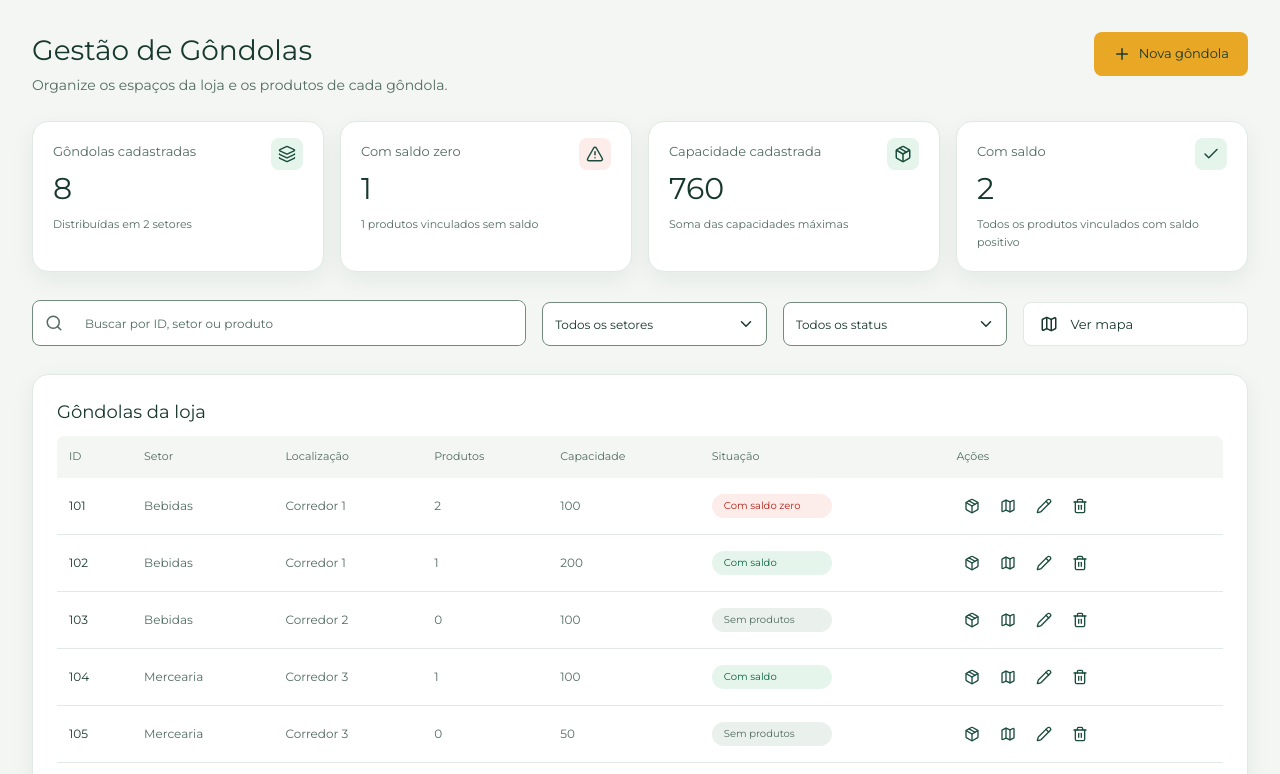
Test: combines accent-insensitive product search, sector and actual quantity status
Step 1. Type " AGUA " into the search field → point(299, 324), box [73,302,525,346]
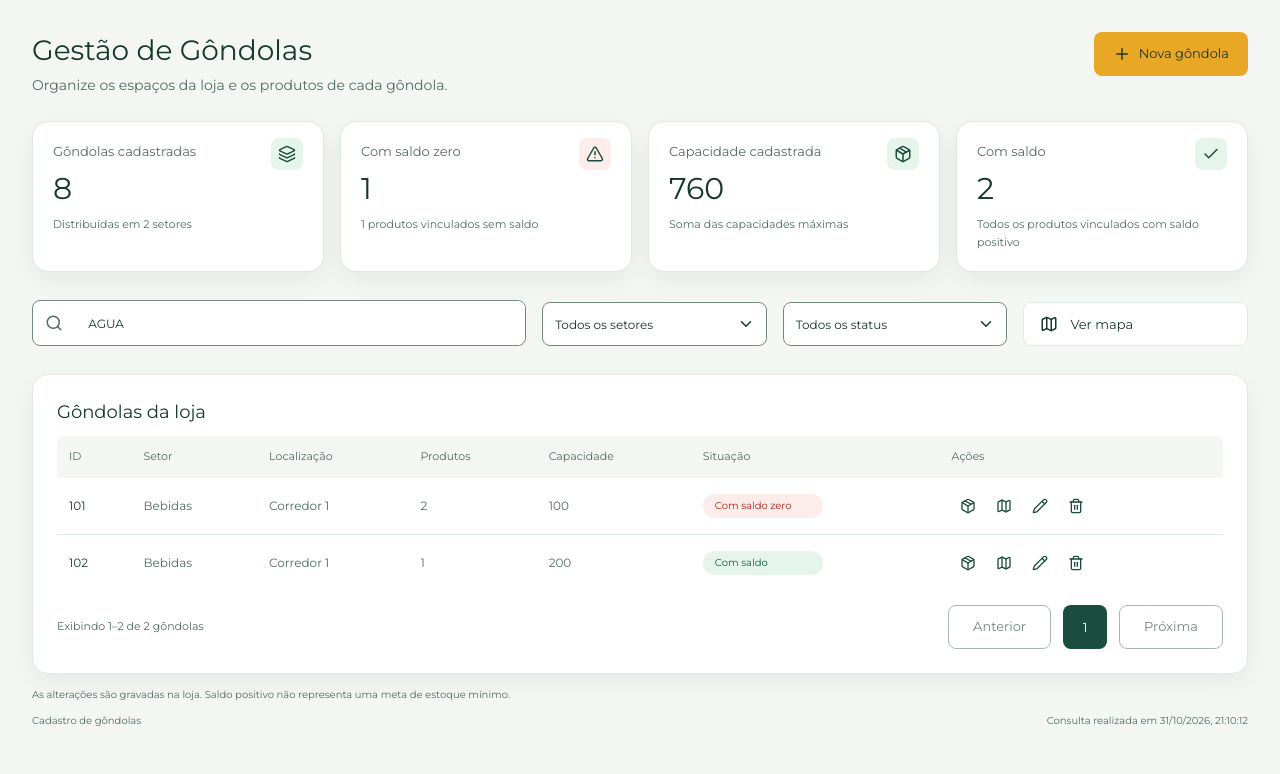
Expected: the message reads "Exibindo 1–2 de 2 gôndolas", [57,619,204,633]
Step 2. Select "Mercearia" in the 1st dropdown named "Setor" → point(654, 324), box [542,302,767,346]
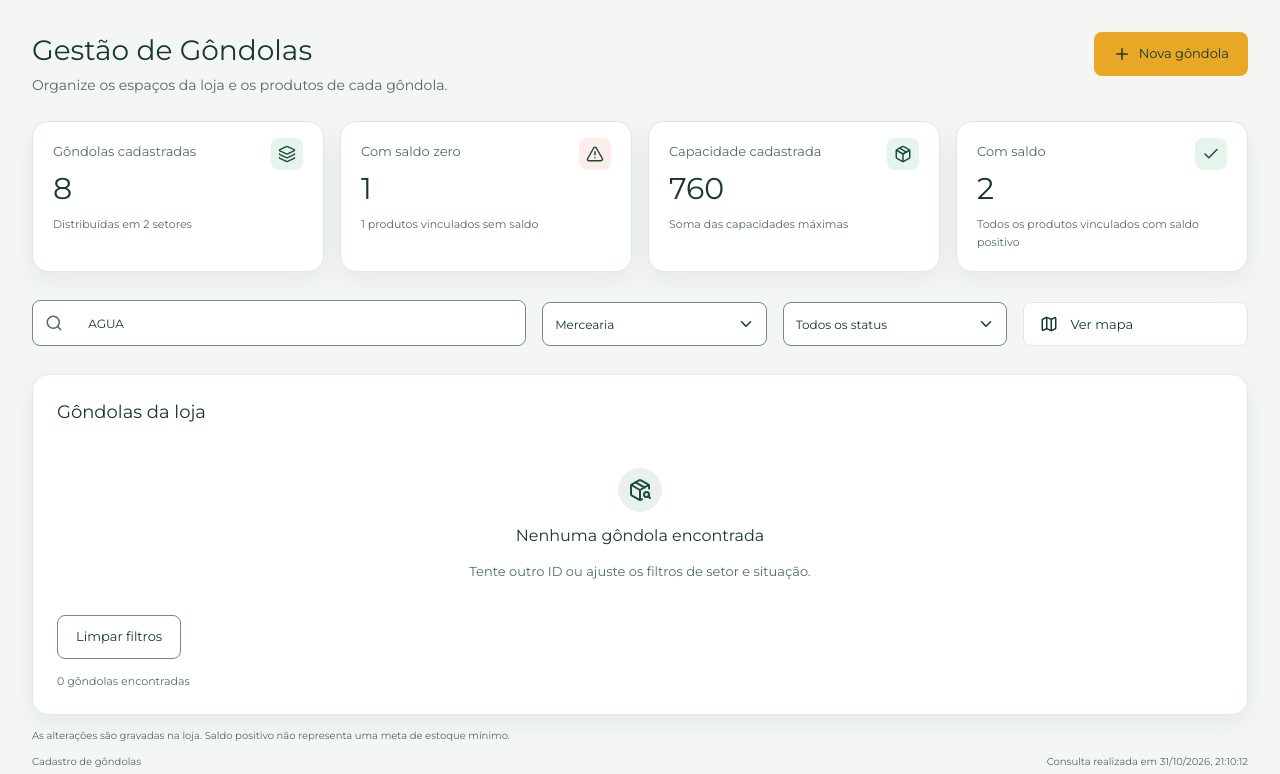
Expected: the text "Nenhuma gôndola encontrada" is shown, [516,524,764,548]
Step 3. Click the button "Limpar filtros" → point(119, 637), box [57,615,181,659]
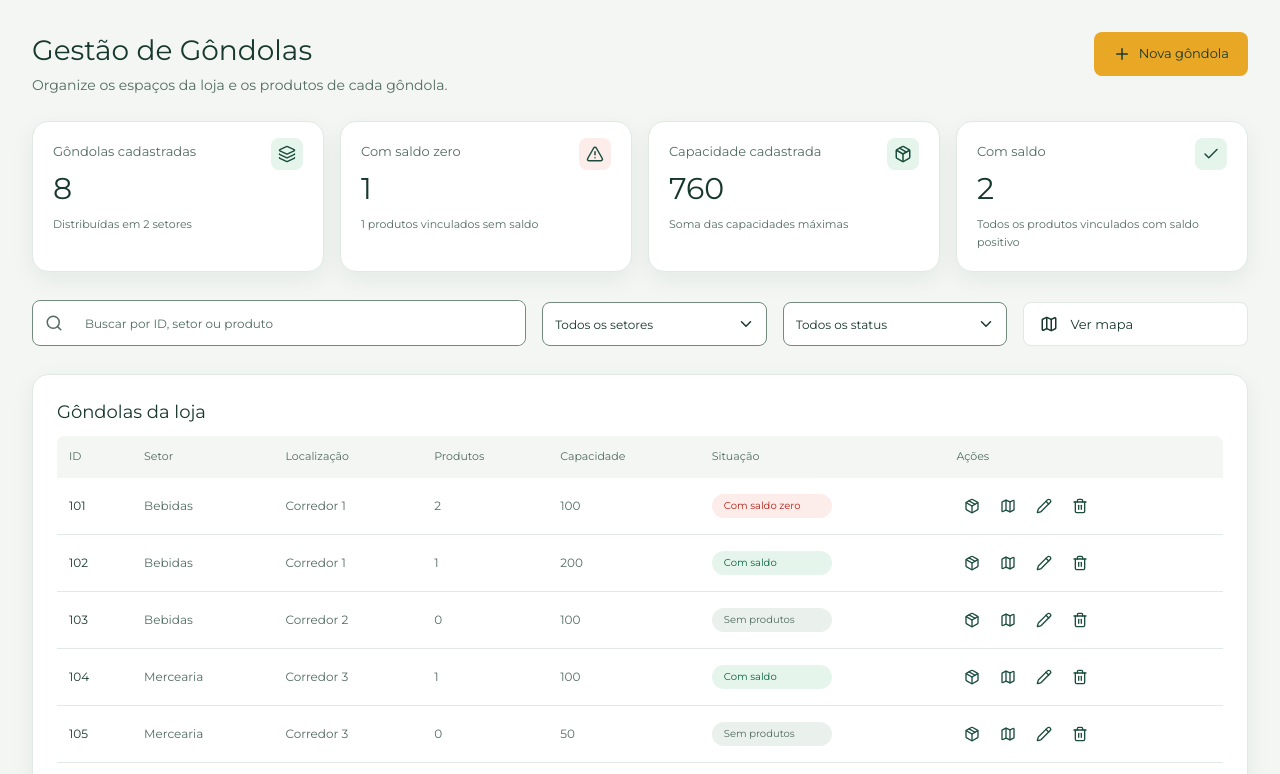
Step 4. Select "Com saldo zero" in the 2nd dropdown named "Situação" → point(895, 324), box [783,302,1007,346]
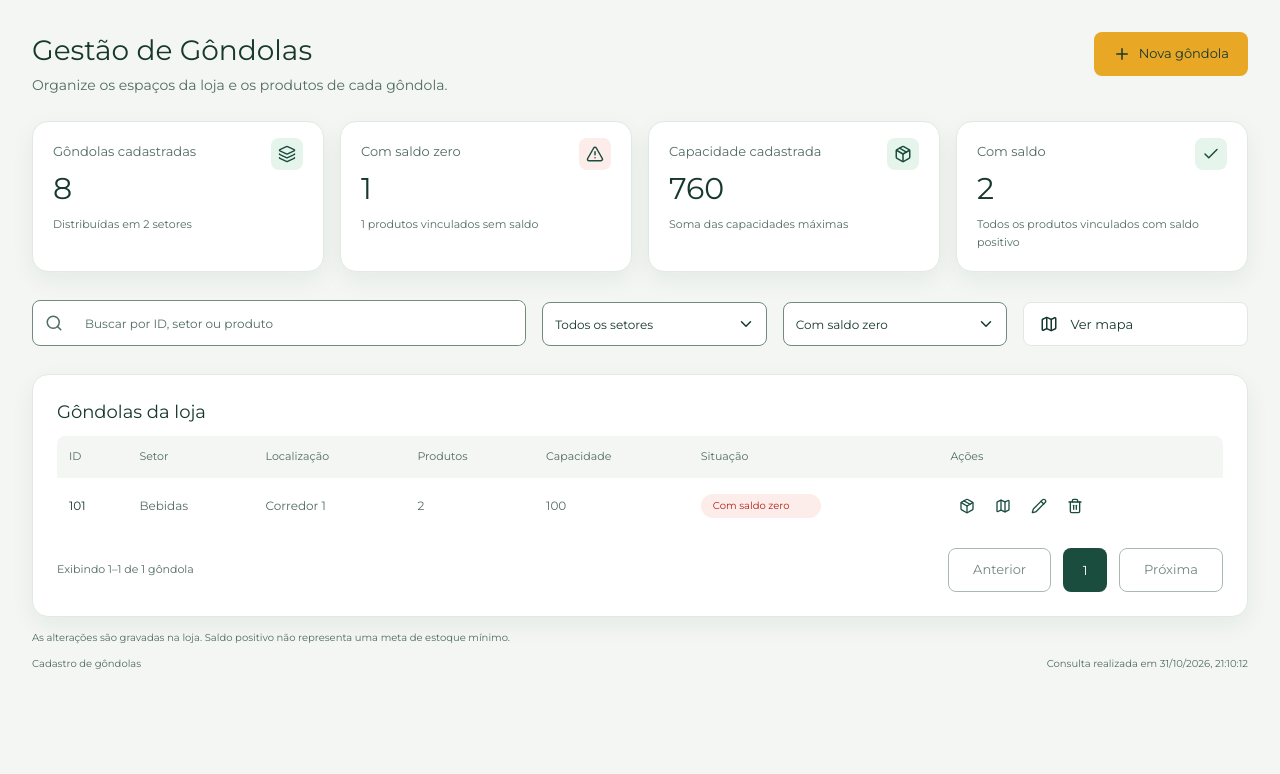
Expected: the column heading "101" is shown, [57,478,127,534]
Expected: the number of rows is 2, [57,436,1223,478]; [57,478,1223,534]
